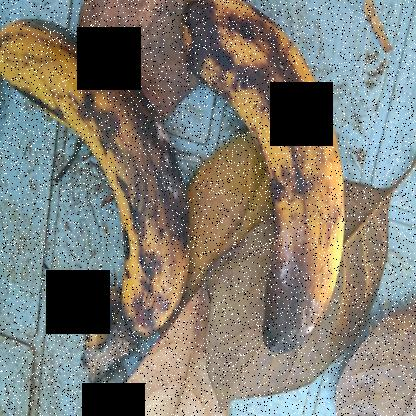rotten: (0, 24, 206, 339), (186, 1, 352, 376)
